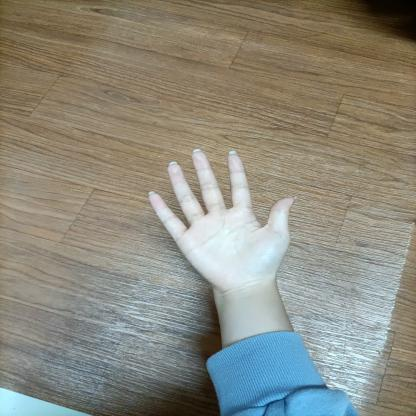bare_hand: (139, 139, 303, 294)
